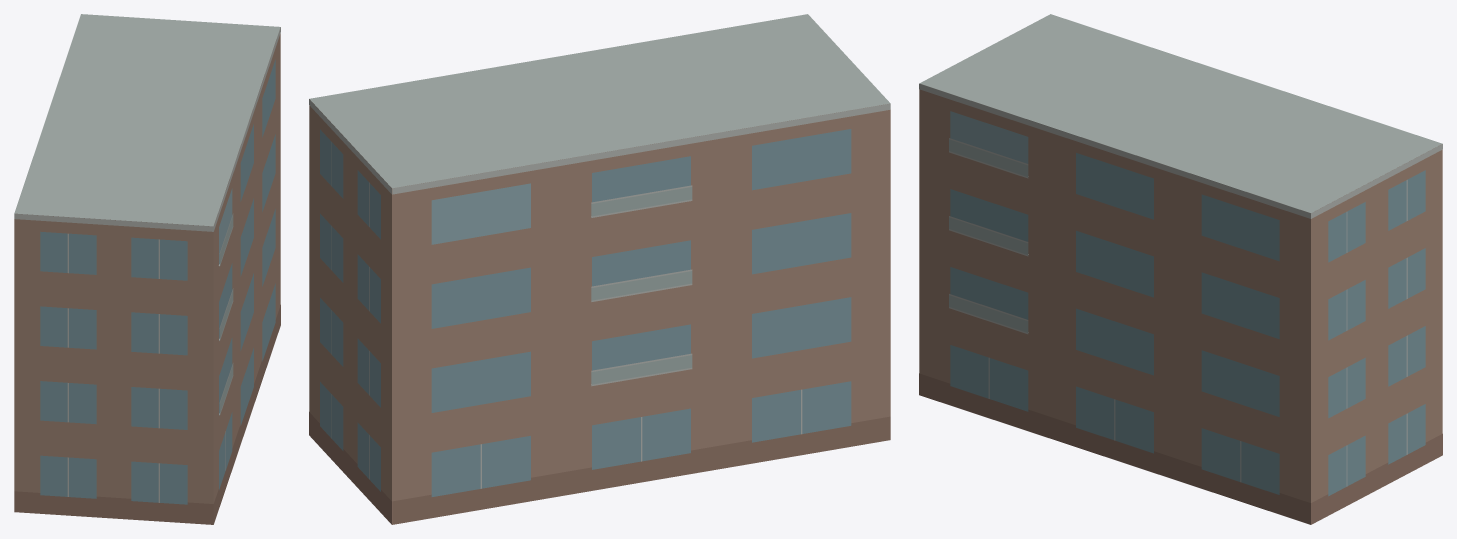
The model's file is survey-upis-32630784.glb.
3 renders of one model, left to right at view 1: azimuth 30°, elevation 25°; view 2: azimuth 150°, elevation 25°; view 3: azimuth 270°, elevation 25°, orthographic. The views are drawn at different scales.
Visible parts, largest first — view 1: survey-upis-32630784.tmp; view 2: survey-upis-32630784.tmp; view 3: survey-upis-32630784.tmp.
Boxes of the visible parts, x1,y1,x2,y2 form: survey-upis-32630784.tmp: (14,14,280,524); survey-upis-32630784.tmp: (309,14,890,524); survey-upis-32630784.tmp: (919,14,1442,524).
Bounding box in the file's own units: 18.11 × 13.2 × 20.11.
